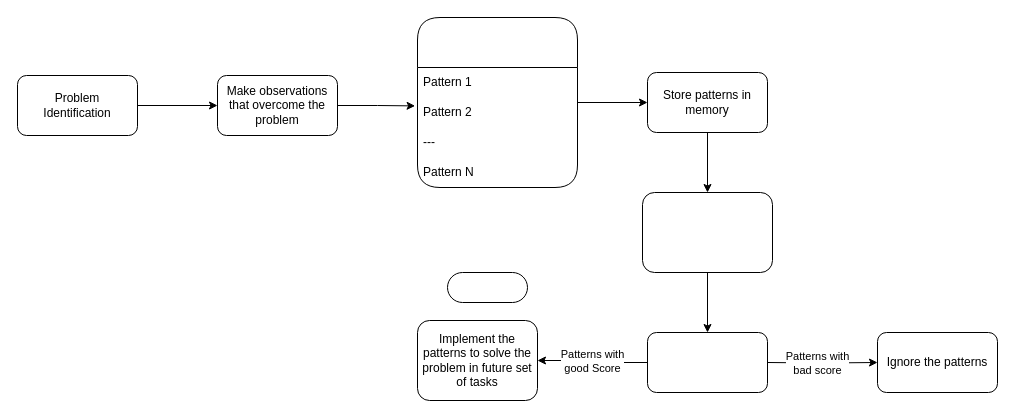
This 1015x418 diagram has some shape labels left out. The shapes that lost their labels are listed below. From the top down, each one's box as (x1, y1, x2, y2) in pixels, then its label:
(416, 16, 578, 188): Recognise Patterns in the observations
(642, 192, 772, 272): Test the patterns on a new set of tasks that require the problem to be solved.
(646, 332, 768, 392): Get the evaluation scores for each pattern
